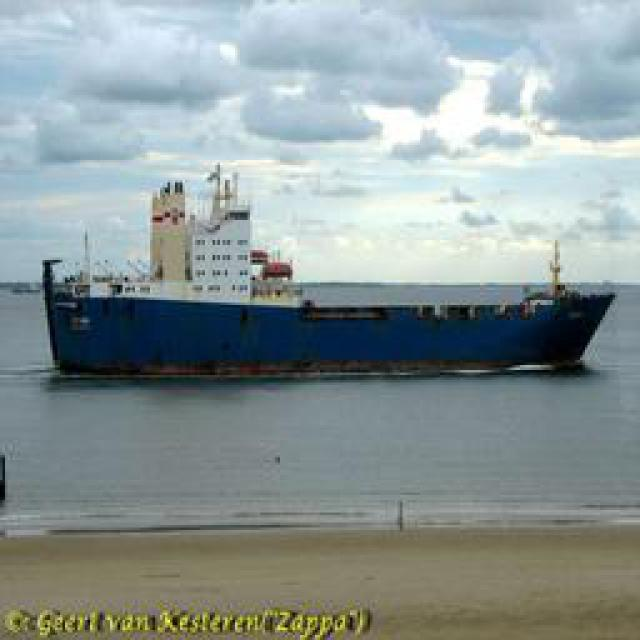Ship: (49, 245, 604, 380)
